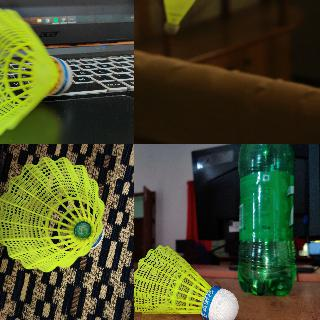shuttlecock: (0, 156, 105, 272), (0, 6, 72, 138), (134, 245, 239, 319), (162, 0, 197, 34)
